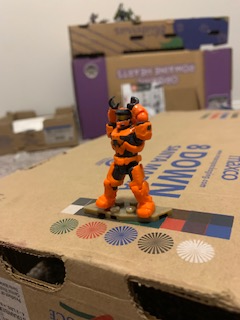spartan: (93, 96, 154, 217)
up: (95, 93, 155, 157)
